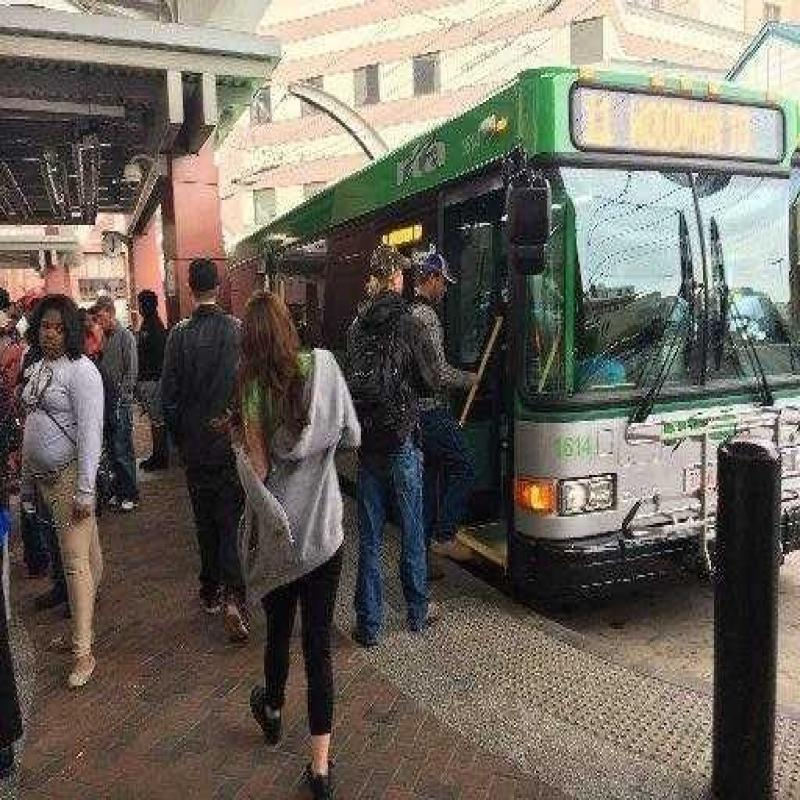bus: (203, 63, 800, 632)
